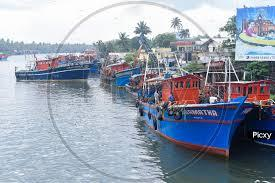fishing boat: (136, 72, 254, 159), (210, 66, 275, 151), (14, 55, 91, 86)
